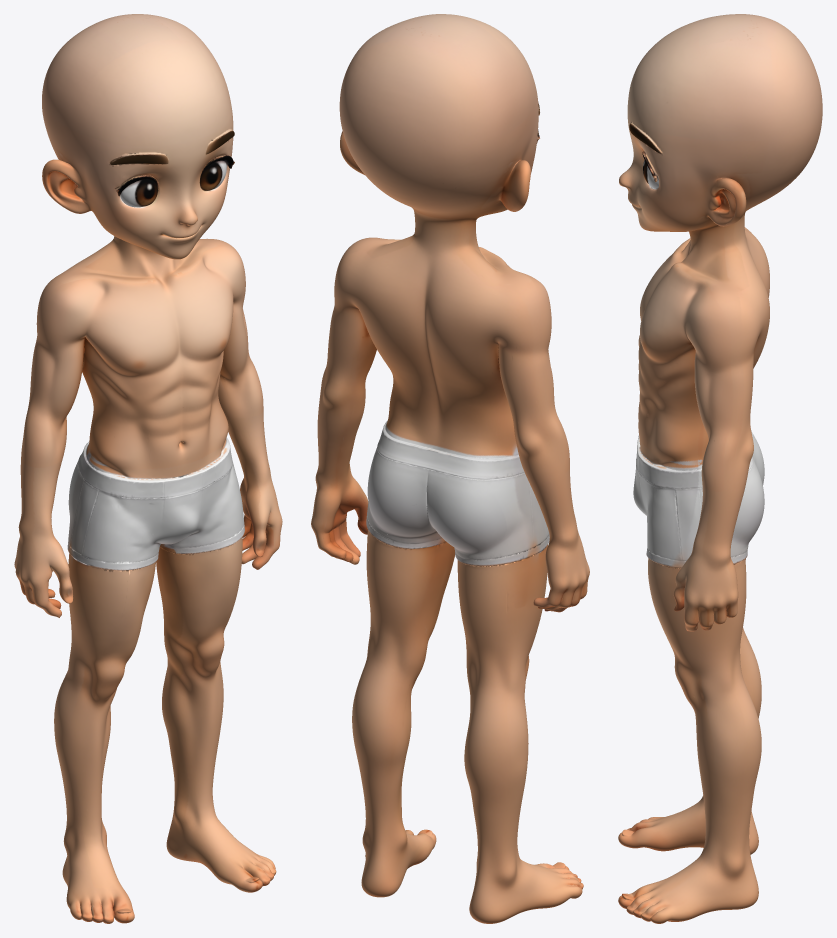
The model's file is MaleCharacter.glb.
The picture shows the model from 3 angles, left to right: view 1: azimuth 30°, elevation 25°; view 2: azimuth 150°, elevation 25°; view 3: azimuth 270°, elevation 25°; orthographic projection. The views are drawn at different scales.
Visible parts, largest first — view 1: node_0; view 2: node_0; view 3: node_0.
Boxes of the visible parts, x1,y1,x2,y2 form: node_0: (14,14,282,923); node_0: (311,14,589,923); node_0: (618,14,822,923).
Bounding box in the file's own units: 0.3705 × 1.17 × 0.2524.
1 material, 1 textured.
